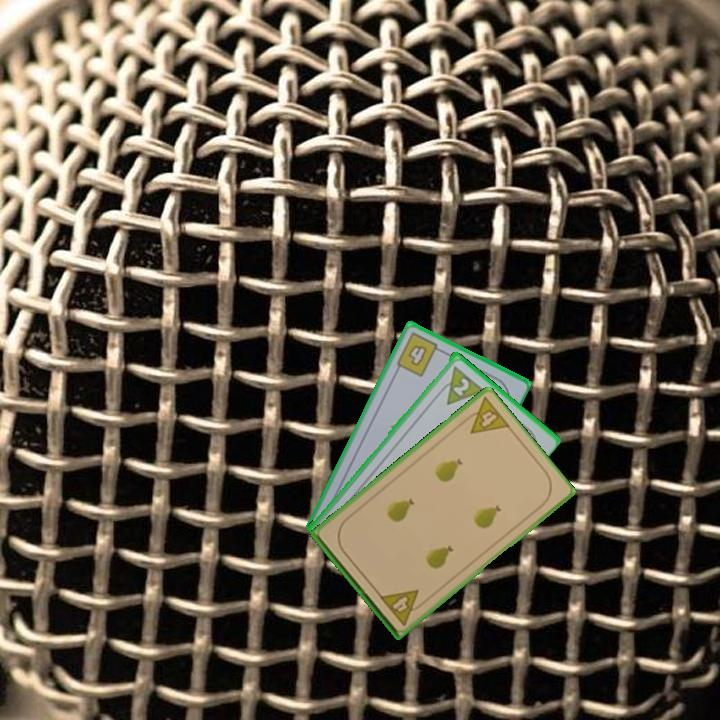2p: (449, 374, 473, 399)
4b: (392, 329, 446, 379)
4p: (457, 394, 513, 437), (376, 586, 429, 628)
